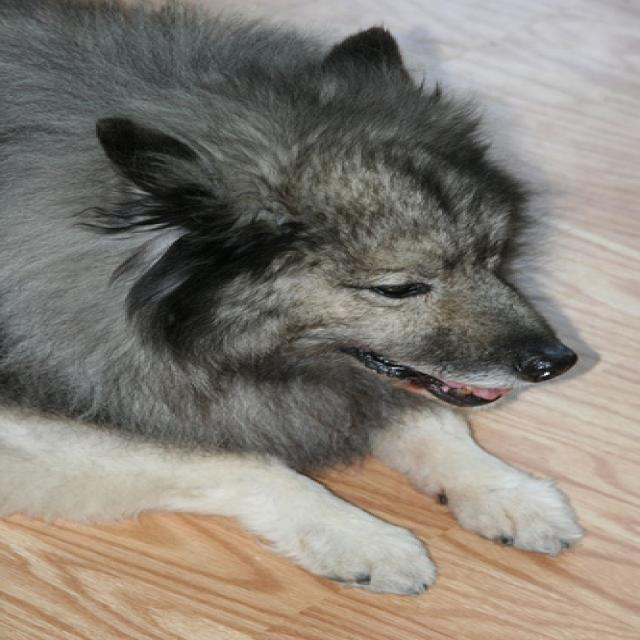dog-keeshond: (2, 1, 592, 598)
